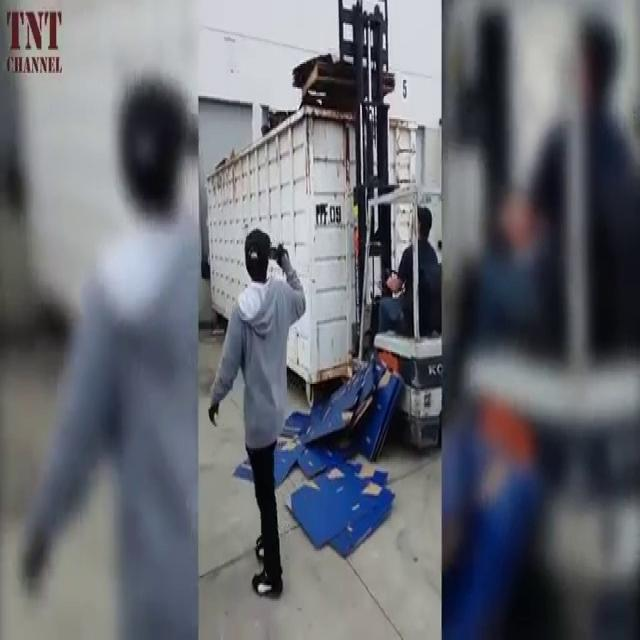forklift: (354, 169, 442, 457)
